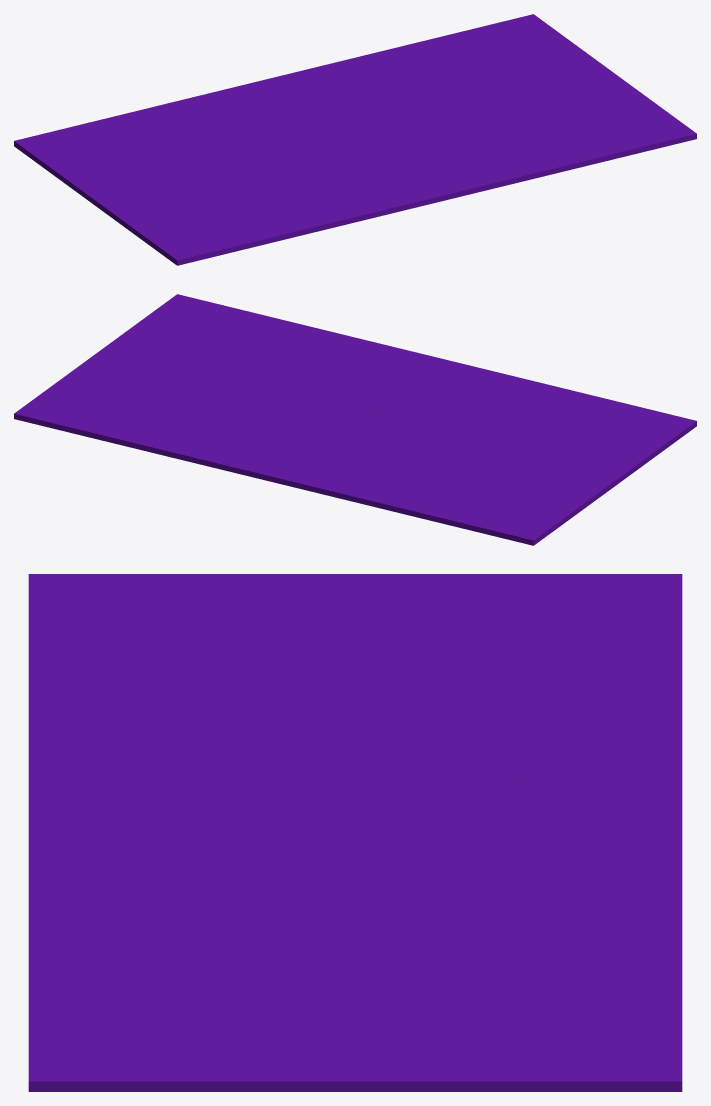
Rendered from Exhibition_18.003_chunks.fbx.
3 renders of one model, top to bottom at view 1: azimuth 30°, elevation 25°; view 2: azimuth 150°, elevation 25°; view 3: azimuth 270°, elevation 25°, orthographic. The views are drawn at different scales.
Parts seen in each view (by area): view 1: Exhibition_18.003_0, Exhibition_18.003_2, Exhibition_18.003_3, Exhibition_18.003_1; view 2: Exhibition_18.003_0, Exhibition_18.003_2, Exhibition_18.003_3, Exhibition_18.003_1; view 3: Exhibition_18.003_0, Exhibition_18.003_2, Exhibition_18.003_3, Exhibition_18.003_1.
Boxes of the visible parts, <box> form: Exhibition_18.003_0: <box>14,99,373,265</box>; Exhibition_18.003_2: <box>356,57,696,217</box>; Exhibition_18.003_3: <box>325,14,592,137</box>; Exhibition_18.003_1: <box>183,57,356,129</box>; Exhibition_18.003_0: <box>355,373,696,545</box>; Exhibition_18.003_2: <box>73,294,499,416</box>; Exhibition_18.003_3: <box>14,370,356,456</box>; Exhibition_18.003_1: <box>115,432,368,505</box>; Exhibition_18.003_0: <box>28,574,682,826</box>; Exhibition_18.003_2: <box>28,765,453,1091</box>; Exhibition_18.003_3: <box>351,812,682,1091</box>; Exhibition_18.003_1: <box>417,739,682,908</box>.
Size of the model in its own units: 1622 by 16.07 by 883.
